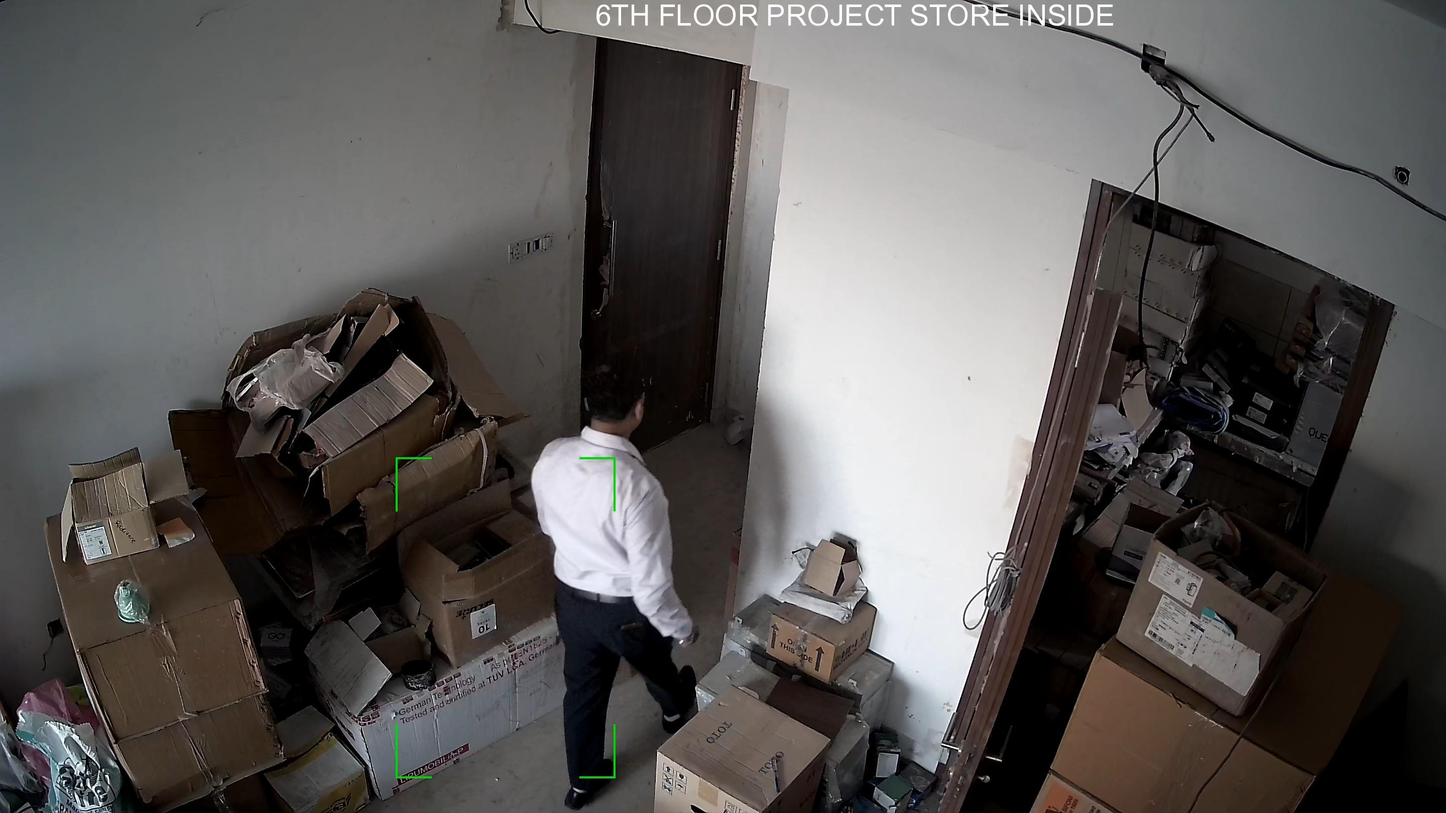Door-Close: (570, 37, 750, 469)
